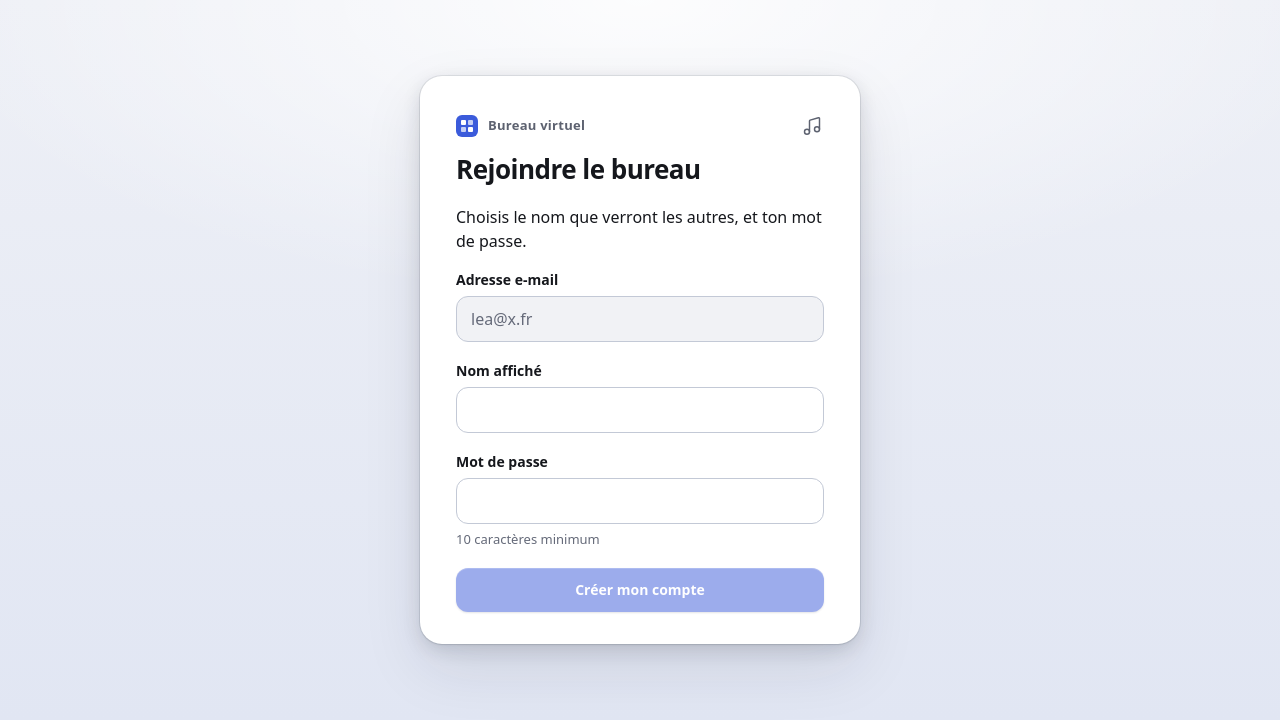
Test: refus à la création du compte › 409 already_member → message et lien vers la connexion
In the field labelled "Nom affiché": point(640, 410) [456, 387, 824, 433], type "Léa"
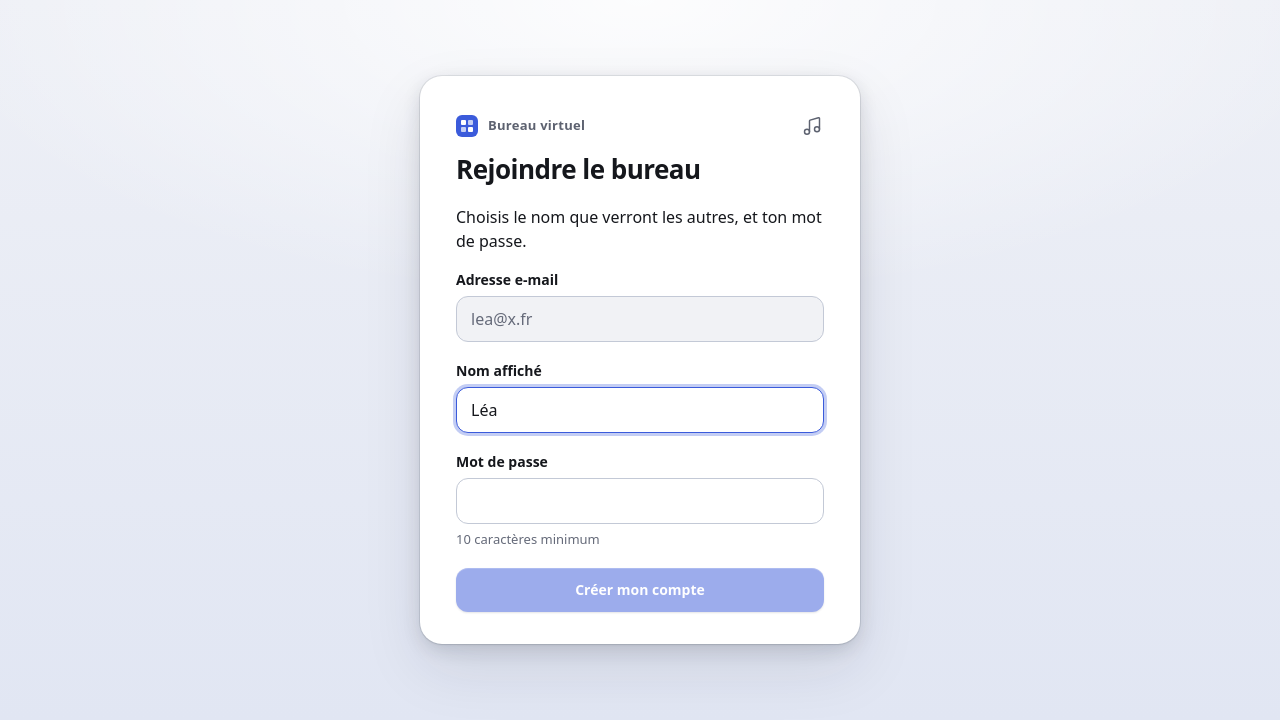
In the password field labelled "Mot de passe": point(640, 501) [456, 478, 824, 524], type "motdepasse1"
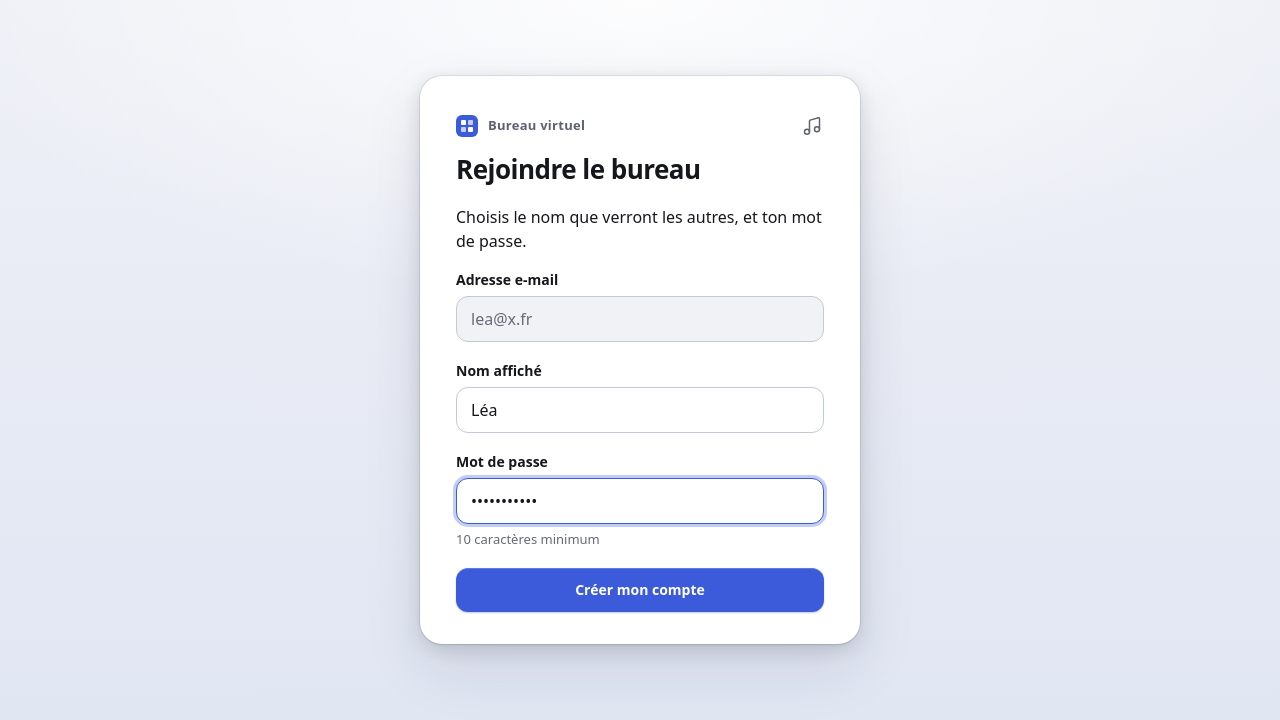
Click the button "Créer mon compte": point(640, 590) [456, 568, 824, 612]
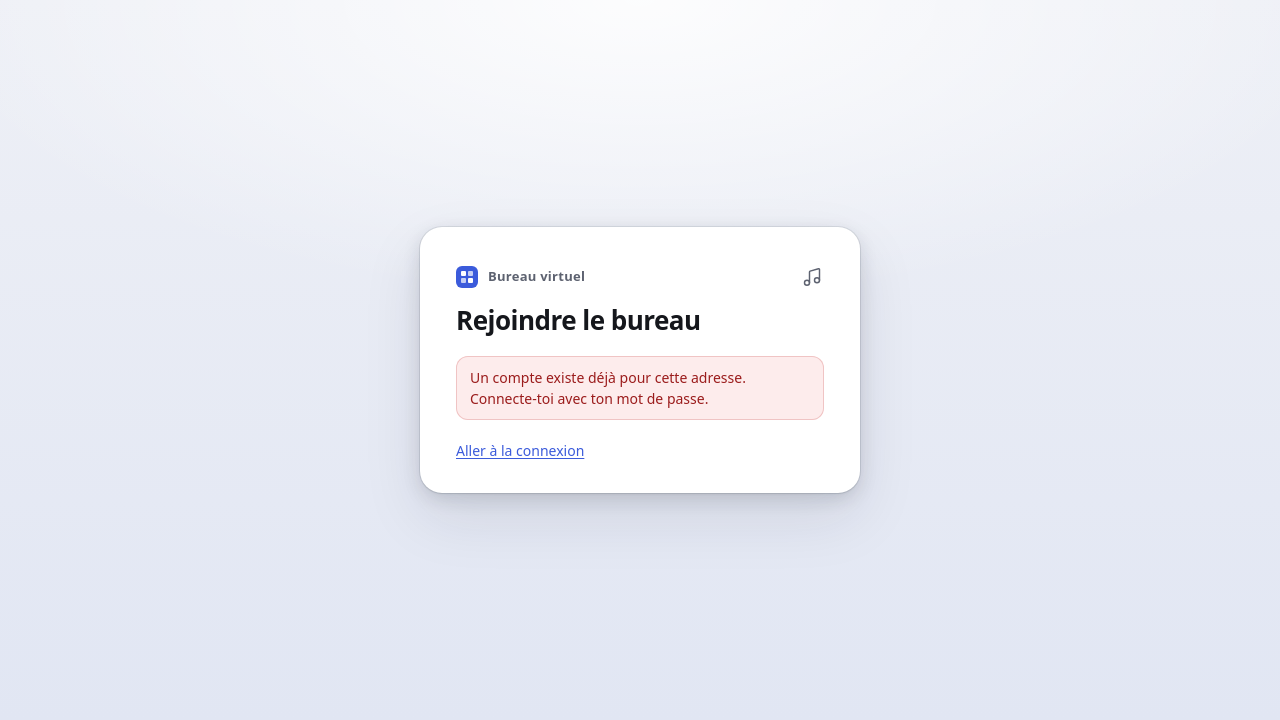
Check: the text "Un compte existe déjà pour cette adresse. Connecte-toi avec ton mot de passe." is shown, box [456, 356, 824, 420]
Check: the link "Aller à la connexion" is shown, box [456, 441, 584, 460]
